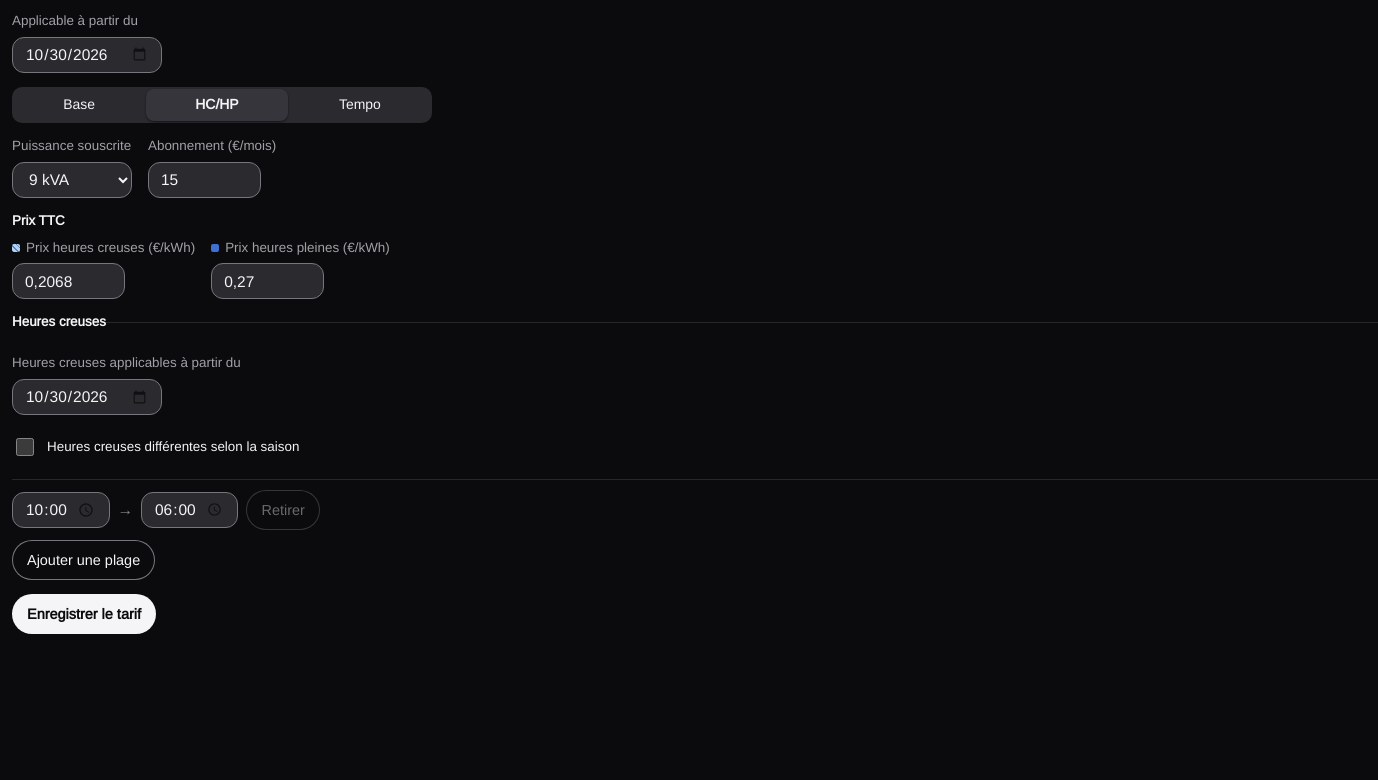
Scenario: TariffForm v2 › Base: one price and no off-peak hours
Click the radio button labelled "Base" at (79, 105), box [14,89,144,121]
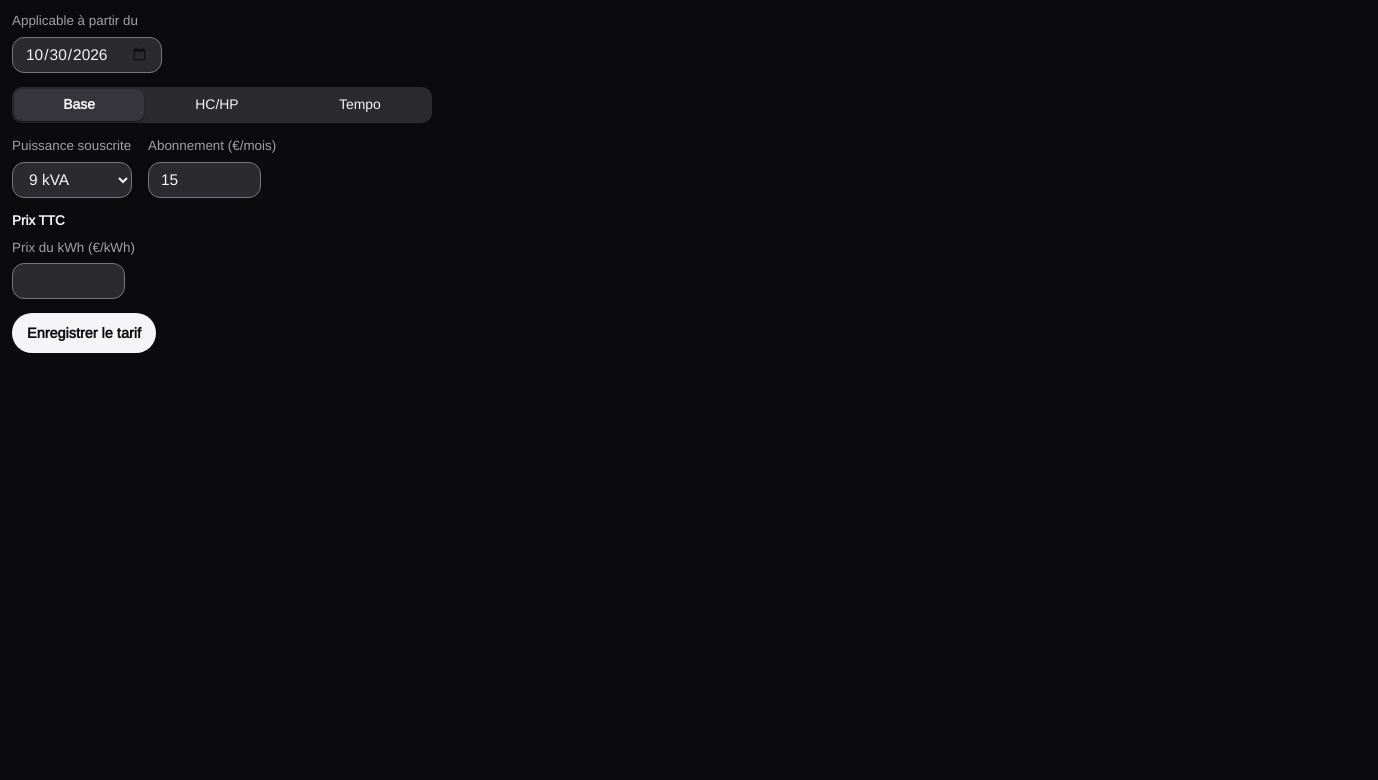
Expected: the field labelled "Prix du kWh (€/kWh)" is shown, [12,263,124,299]
Expected: the field labelled "Prix heures creuses (€/kWh)" is gone
Expected: the text "heures creuses" is gone
